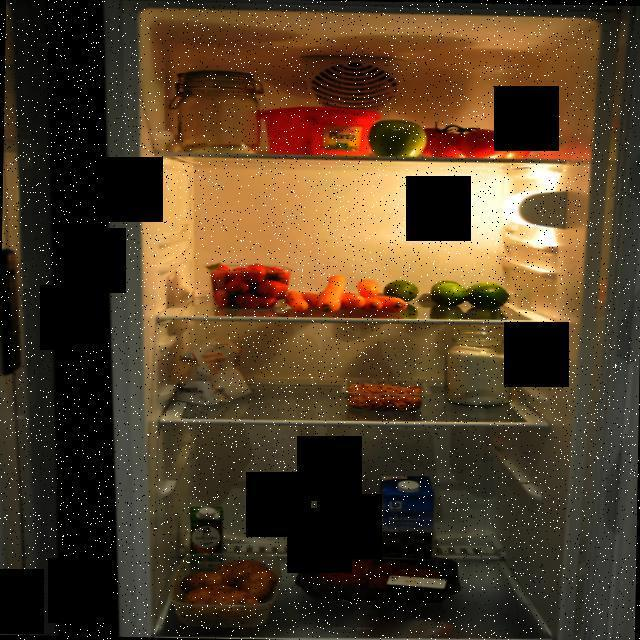apple: (366, 115, 430, 160)
beef: (292, 550, 464, 602)
butter: (255, 105, 384, 156)
carrot: (282, 272, 411, 316)
flour: (162, 62, 267, 160), (162, 332, 260, 412)
heavy_cream: (188, 505, 224, 572)
lime: (382, 278, 510, 310)
milk: (378, 472, 439, 568)
potato: (169, 550, 281, 628)
shrimp: (343, 378, 426, 411)
strawberries: (207, 260, 292, 310)
sugar: (442, 322, 514, 408)
tomato: (419, 118, 534, 161)
